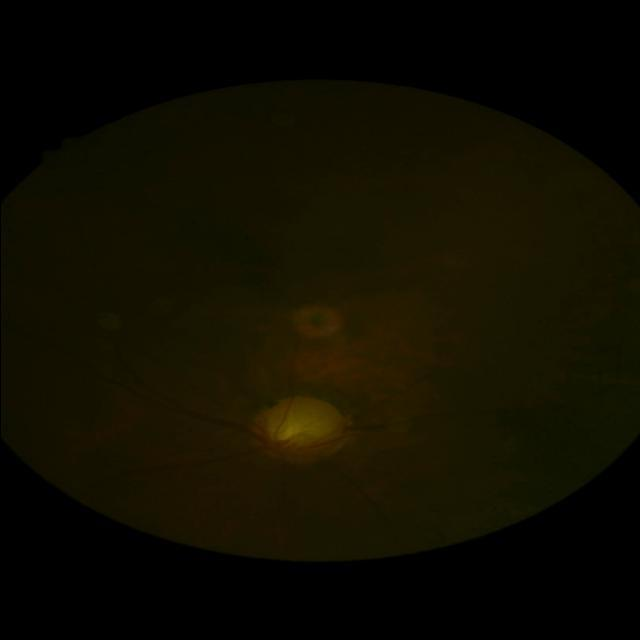cup: (263, 401, 341, 456)
disk: (245, 396, 346, 464)
